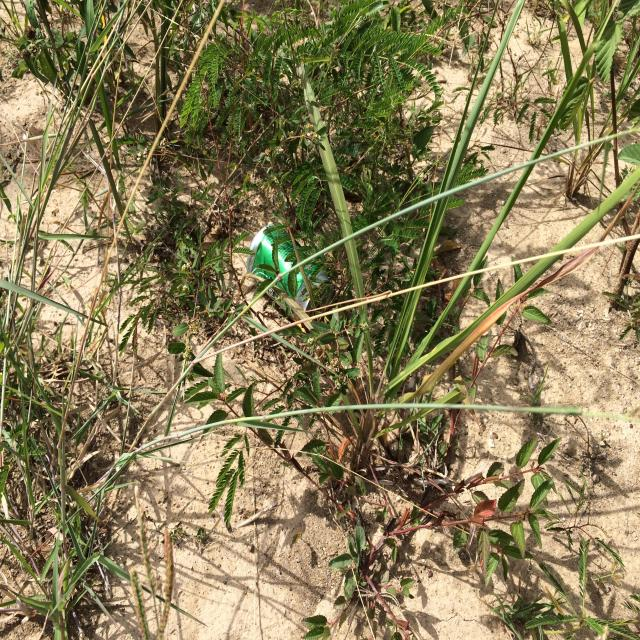litter: (244, 219, 335, 317)
